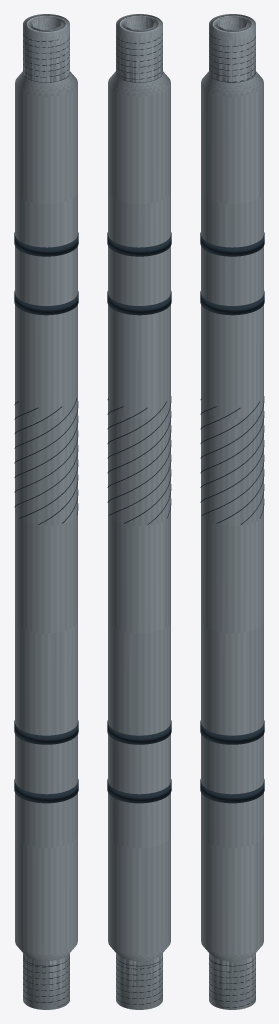
The model's file is shock.glb.
3 views of the same model, side by side, from view 1: azimuth 30°, elevation 25°; view 2: azimuth 150°, elevation 25°; view 3: azimuth 330°, elevation 25° (orthographic).
Parts seen in each view (by area): view 1: tool-housing (×2), service-features (×2), uphole-connection (×3), downhole-connection (×2), sliding-mandrel; view 2: tool-housing (×2), service-features (×2), uphole-connection (×3), downhole-connection (×2), sliding-mandrel; view 3: tool-housing (×2), service-features (×2), uphole-connection (×3), downhole-connection (×2), sliding-mandrel.
Boxes of the visible parts, x1=… form: tool-housing (×2): x1=15, y1=14, x2=77, y2=1009; service-features (×2): x1=14, y1=232, x2=78, y2=803; uphole-connection (×3): x1=23, y1=14, x2=69, y2=82; downhole-connection (×2): x1=23, y1=954, x2=69, y2=1009; sliding-mandrel: x1=14, y1=398, x2=78, y2=524; tool-housing (×2): x1=108, y1=14, x2=170, y2=1009; service-features (×2): x1=107, y1=232, x2=171, y2=803; uphole-connection (×3): x1=116, y1=14, x2=162, y2=82; downhole-connection (×2): x1=116, y1=954, x2=162, y2=1009; sliding-mandrel: x1=107, y1=397, x2=171, y2=524; tool-housing (×2): x1=201, y1=14, x2=263, y2=1009; service-features (×2): x1=200, y1=232, x2=264, y2=803; uphole-connection (×3): x1=209, y1=14, x2=255, y2=82; downhole-connection (×2): x1=209, y1=954, x2=255, y2=1009; sliding-mandrel: x1=200, y1=397, x2=264, y2=524.
Bounding box in the file's own units: 0.1195 × 2 × 0.1195.
Materials: 2 (2 with a texture image).
